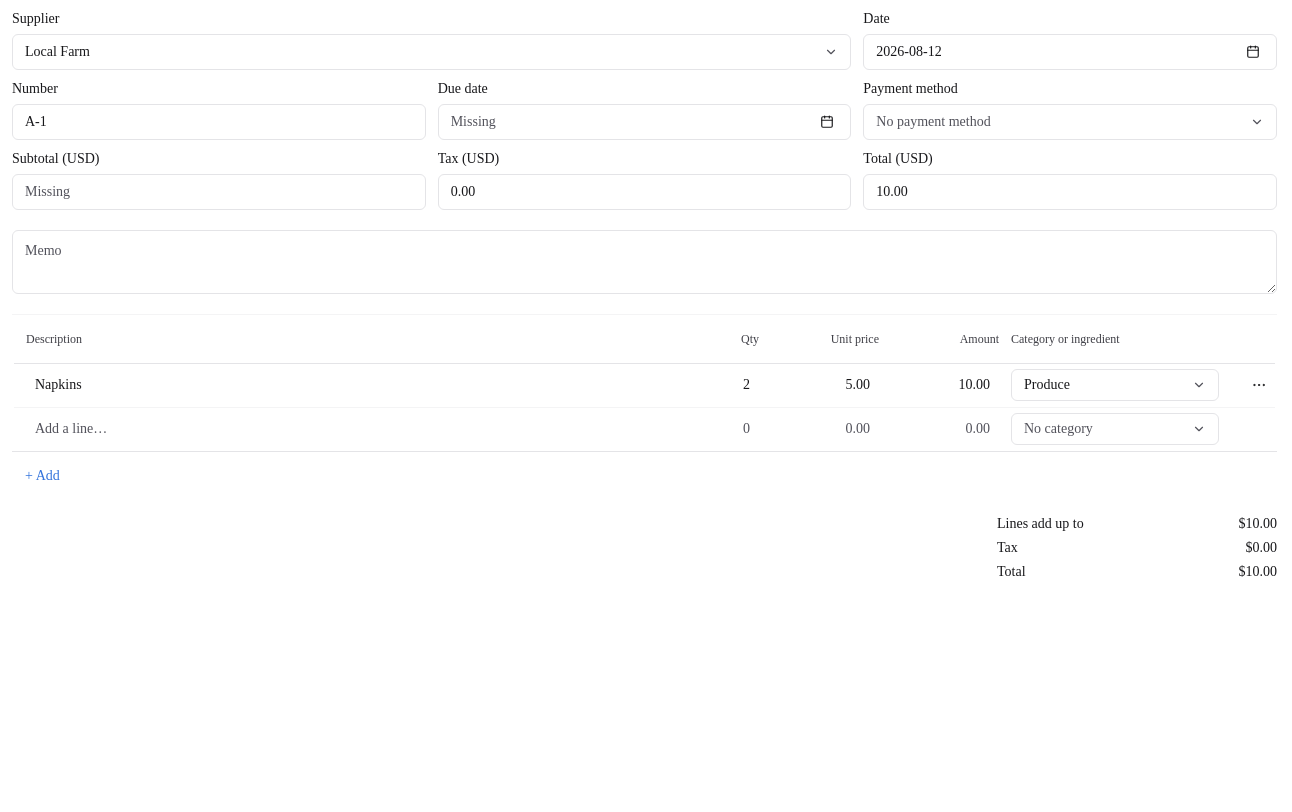
Test case: the invoice editor › names the payment method rather than its wire value
Press the mouse on the dropdown labelled "payment method" at (933, 122), box [863, 104, 1277, 140]
Click the dropdown labelled "payment method". click: (933, 122)
box: [863, 104, 1277, 140]
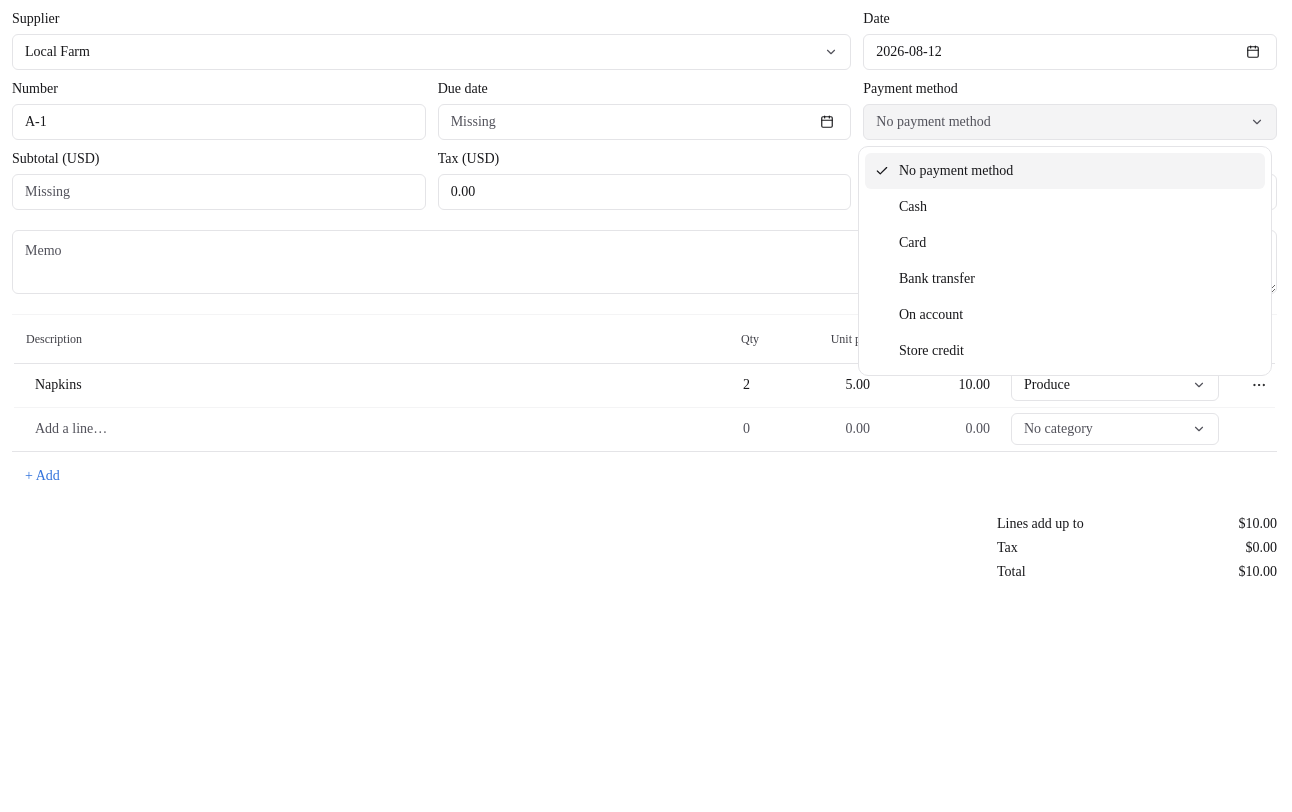
Press the mouse on the option "Bank transfer" at (937, 278), box [899, 271, 975, 286]
Click the option "Bank transfer". click: (937, 278)
box: [899, 271, 975, 286]
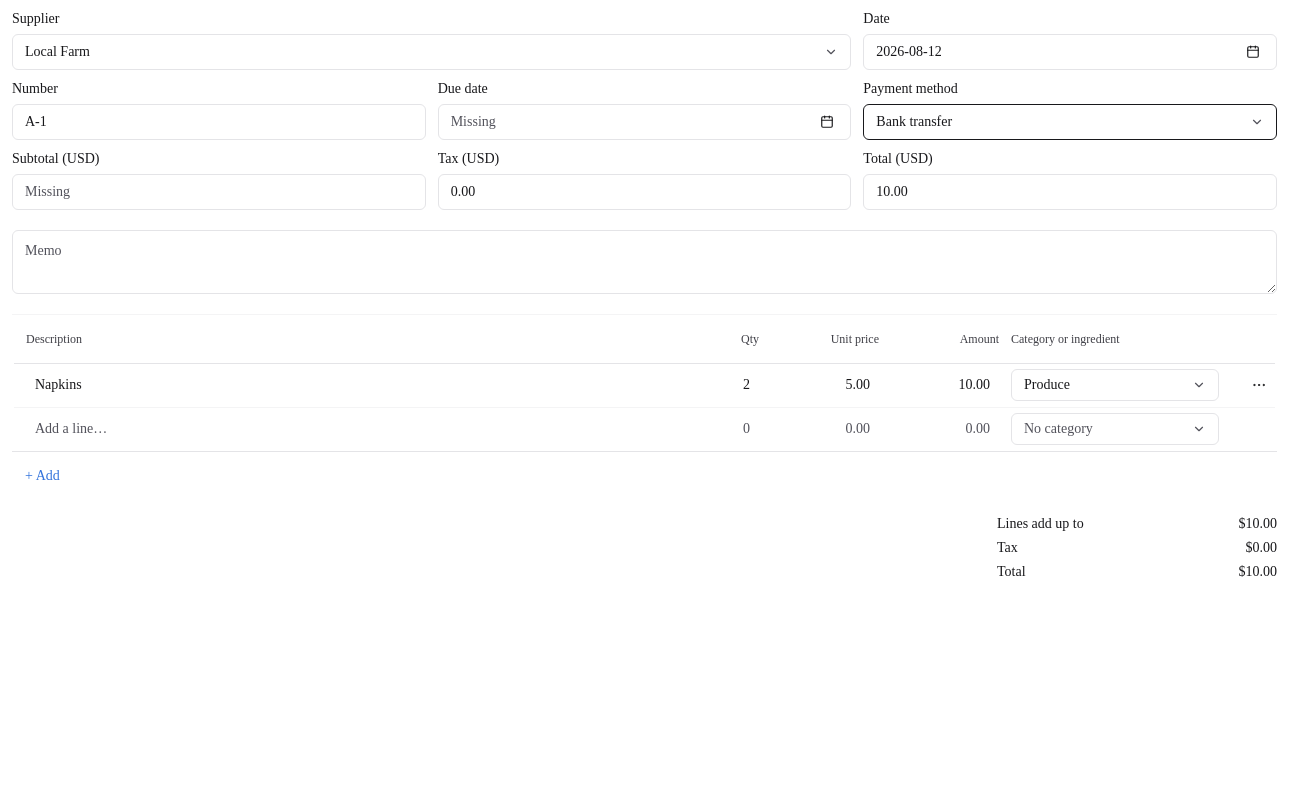
Expected: the dropdown named "Payment method" shows "Bank transfer", [863, 104, 1277, 140]
